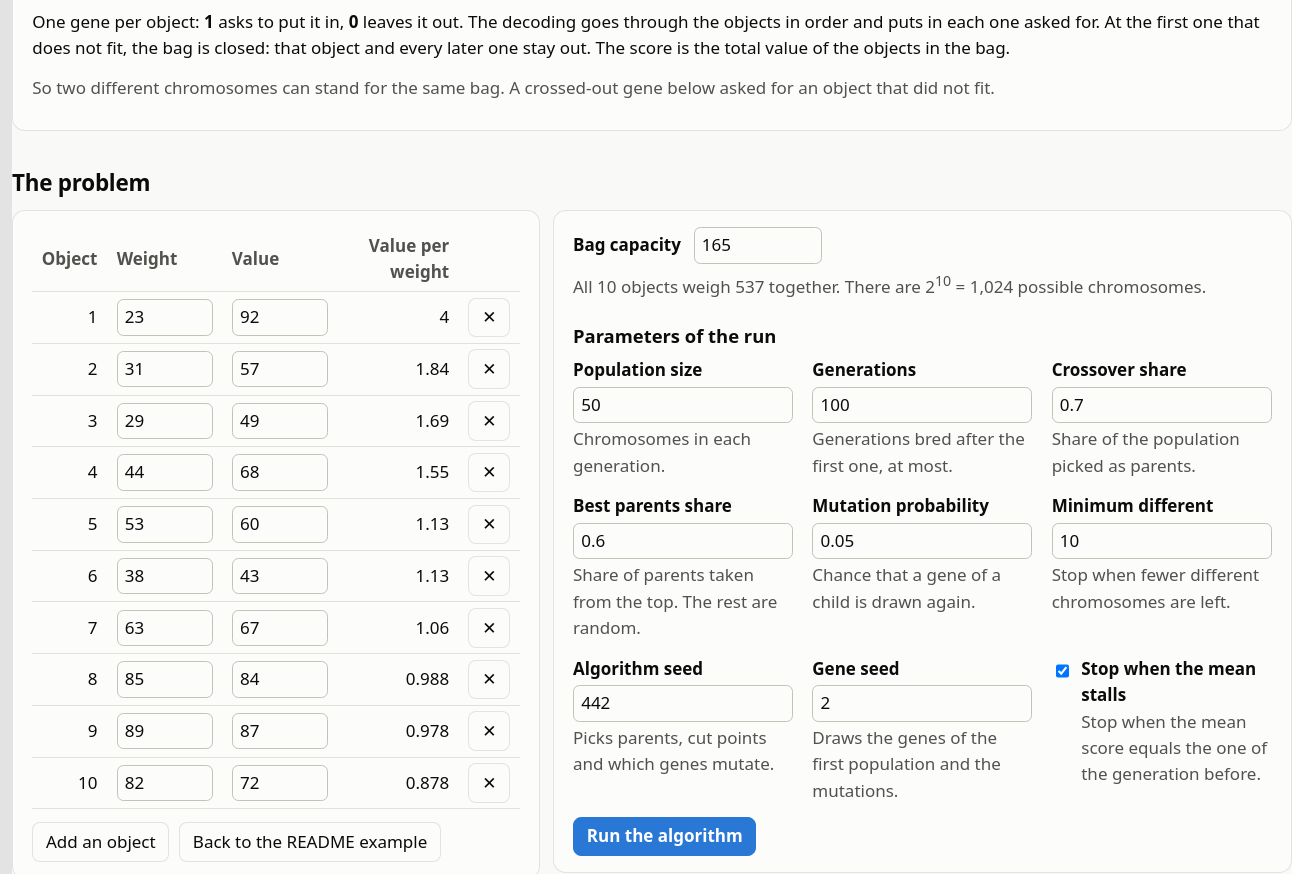
Test: Knapsack page › adds and removes objects, and goes back to the example
The image size is (1292, 874).
(page scrolled)
Expected: the heading "The problem" is shown, [12,167,150,198]
Click the button "Add an object". click: x=101, y=842
box: [32,822,170,862]
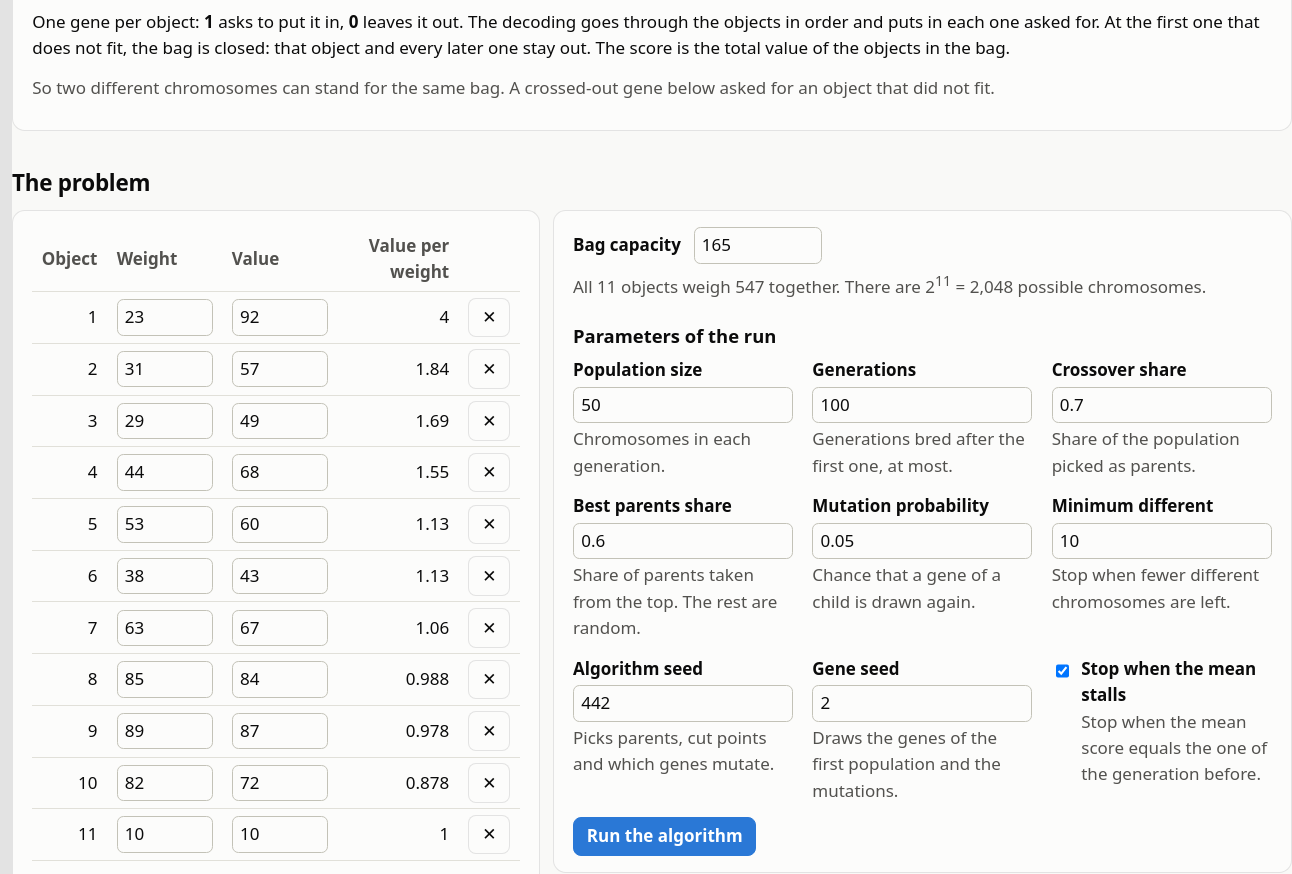
Click the button named "Remove object 1". click: x=489, y=317
box: [468,298,510,337]
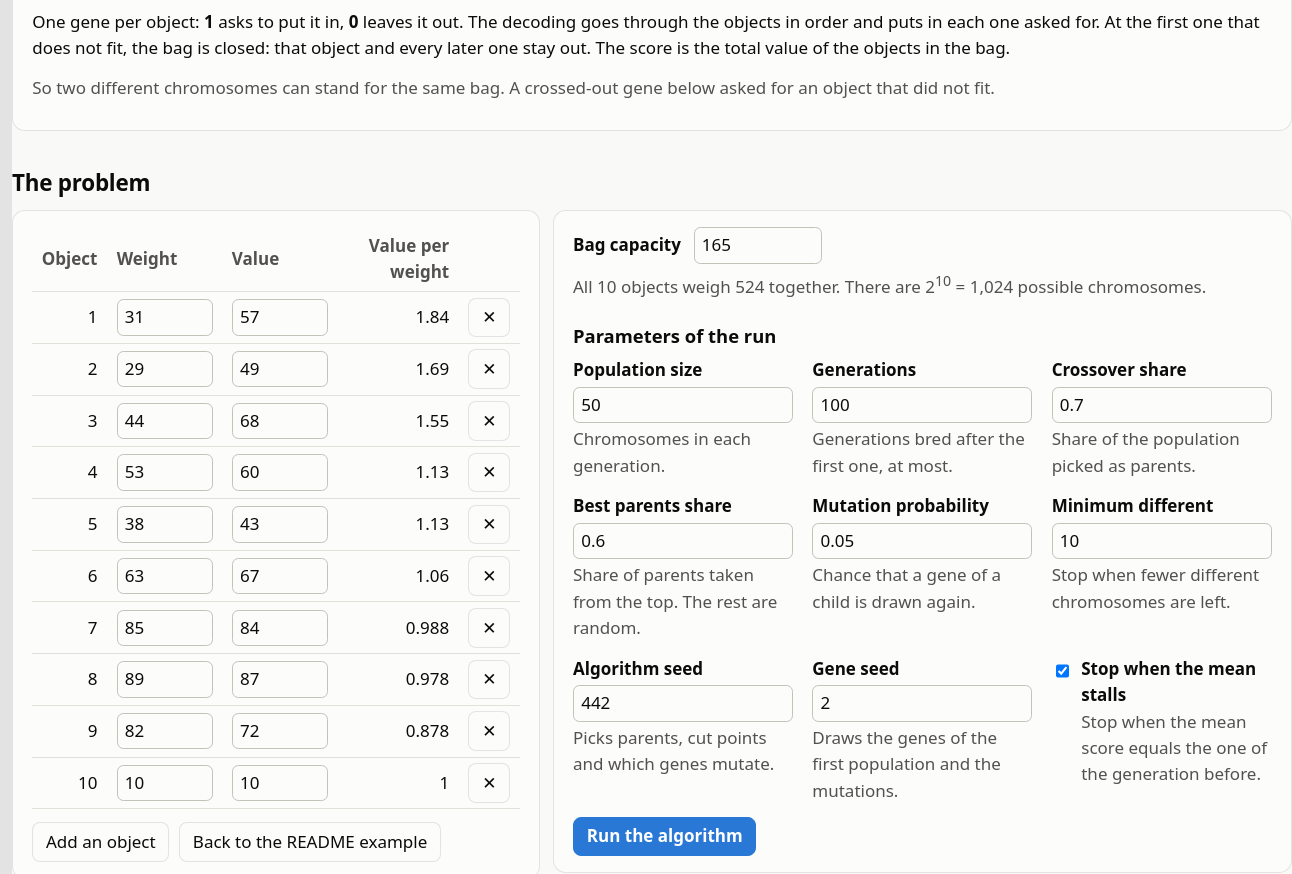
Expected: the text "All 10 objects weigh 524 together." is shown, [573,275,935,298]
Click the button "Back to the README example". click: x=310, y=842
box: [179,822,441,862]
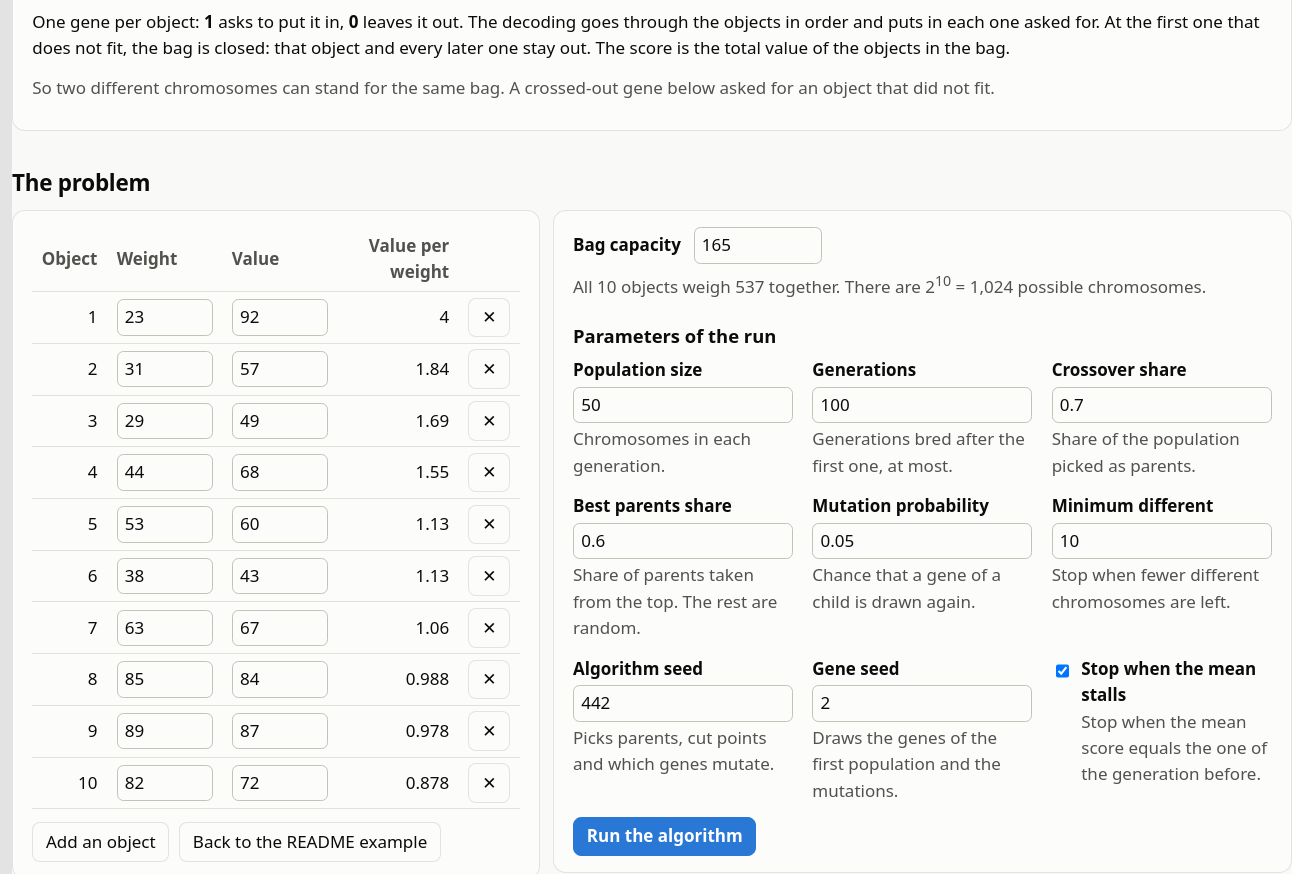
Expected: the text "All 10 objects weigh 537 together." is shown, [573,275,935,298]
